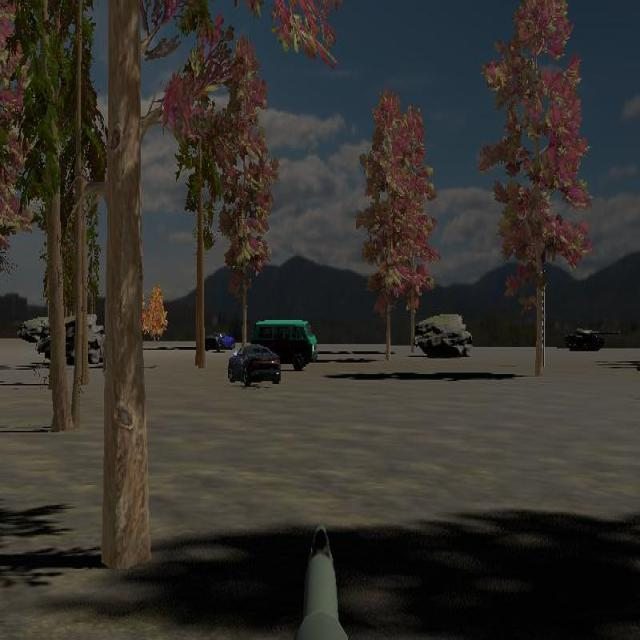Tank: (565, 322, 622, 352)
car: (251, 319, 318, 371), (227, 343, 281, 388)
